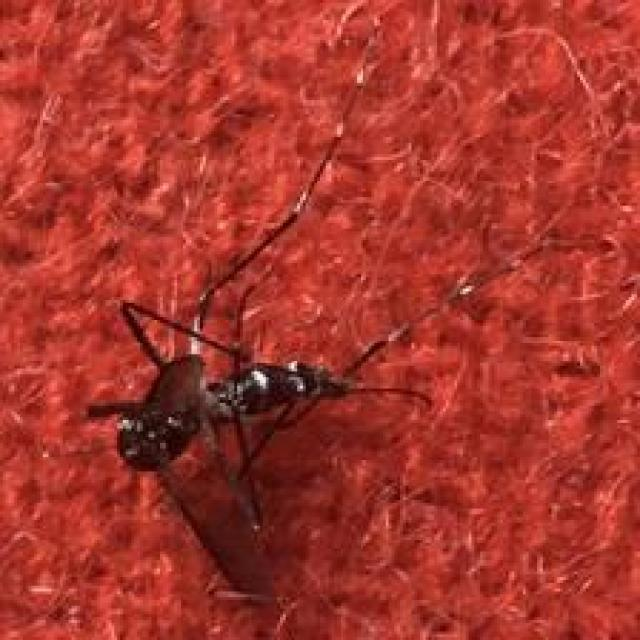Aedes albopictus: (81, 26, 436, 608)
